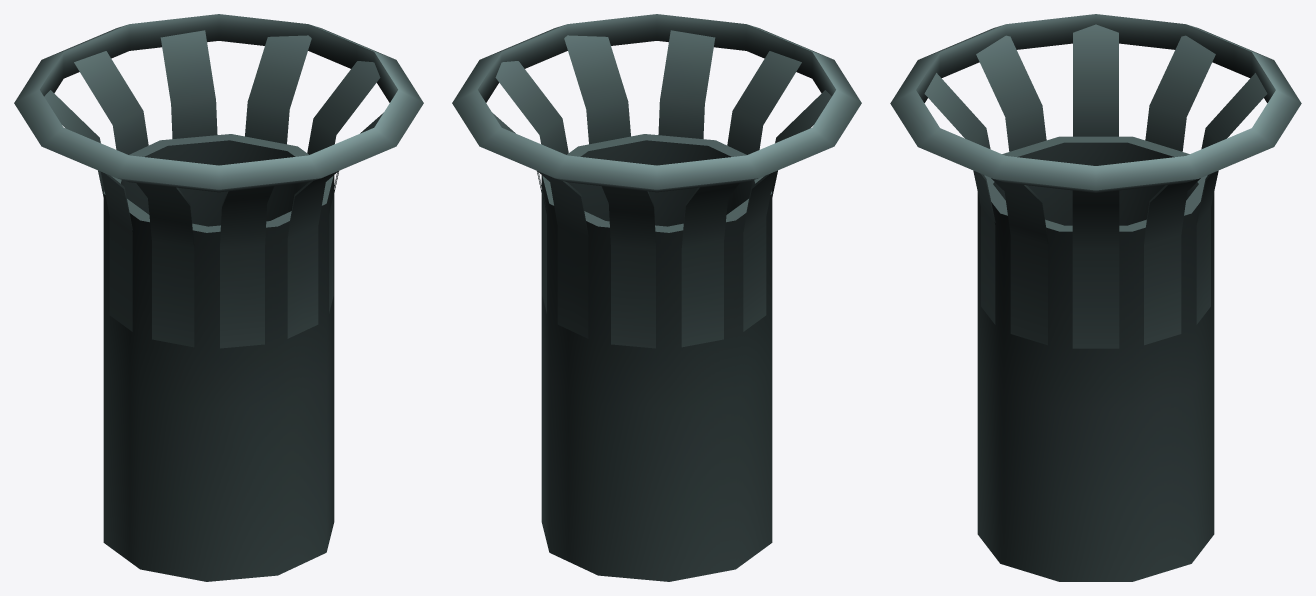
The model's file is Trash_Can_1C.fbx.
3 renders of one model, left to right at view 1: azimuth 30°, elevation 25°; view 2: azimuth 150°, elevation 25°; view 3: azimuth 270°, elevation 25°, orthographic.
Visible parts, largest first — view 1: Trash_Can_1C; view 2: Trash_Can_1C; view 3: Trash_Can_1C.
Part boxes in pixels (box(x1,y1,x2,y2)): Trash_Can_1C: box(14, 14, 423, 581); Trash_Can_1C: box(452, 14, 861, 581); Trash_Can_1C: box(890, 14, 1301, 581).
Bounding box in the file's own units: 0.958 × 1.14 × 0.958.
